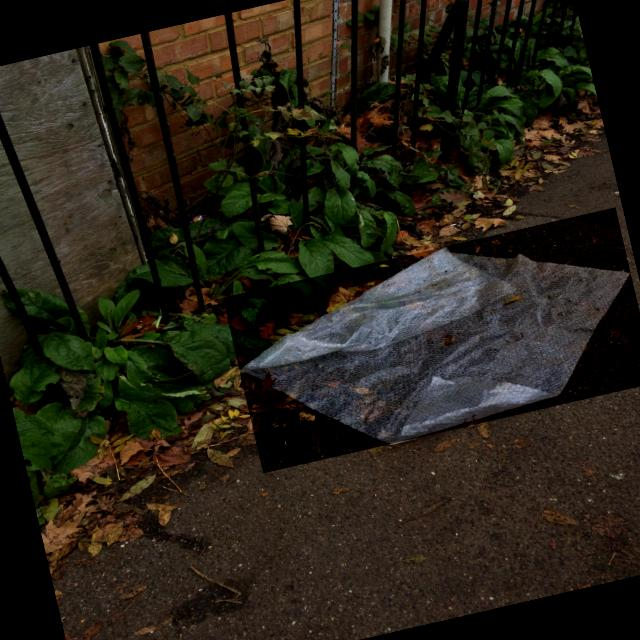Plastic film: (240, 247, 630, 444)
